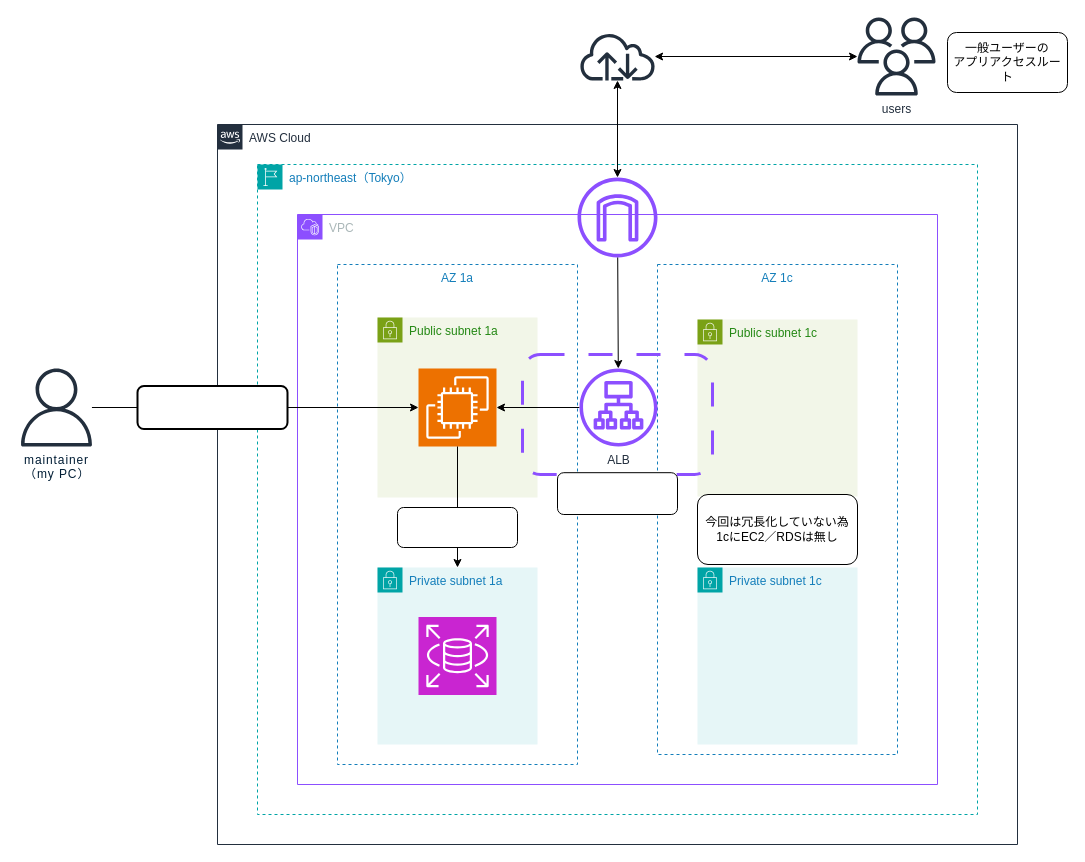
This 1085x862 diagram has some shape labels left out. The centre of each missing label's shape, as x and y in pixels:
"DNS経由 HTTPアクセス ～EC2へ" belongs at (x=617, y=493).
"EC2" belongs at (x=457, y=407).
"IGW" belongs at (x=617, y=217).
"internet" belongs at (x=617, y=56).
"RDS" belongs at (x=457, y=655).
"ssh接続： メンテナンス用" belongs at (x=212, y=407).
"データ取得" belongs at (x=457, y=527).
